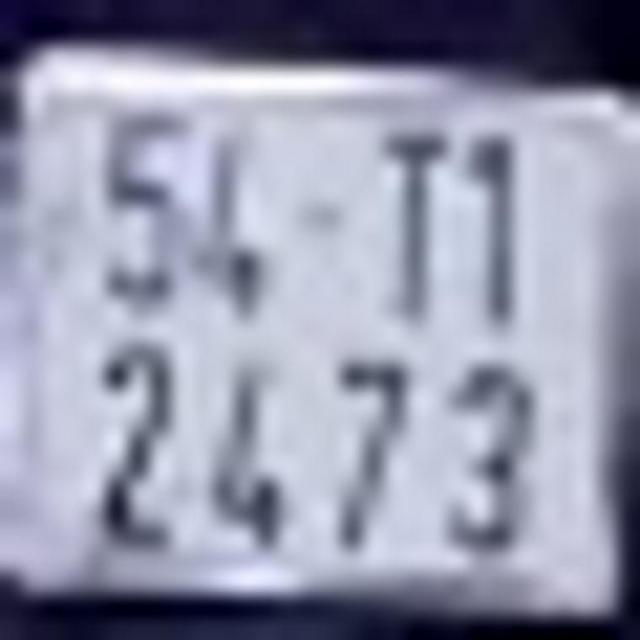1: (460, 122, 530, 328)
2: (100, 336, 179, 554)
3: (449, 348, 535, 554)
4: (191, 109, 269, 328), (207, 358, 290, 556)
5: (101, 100, 190, 302)
7: (330, 344, 412, 550)
T: (380, 121, 455, 322)
